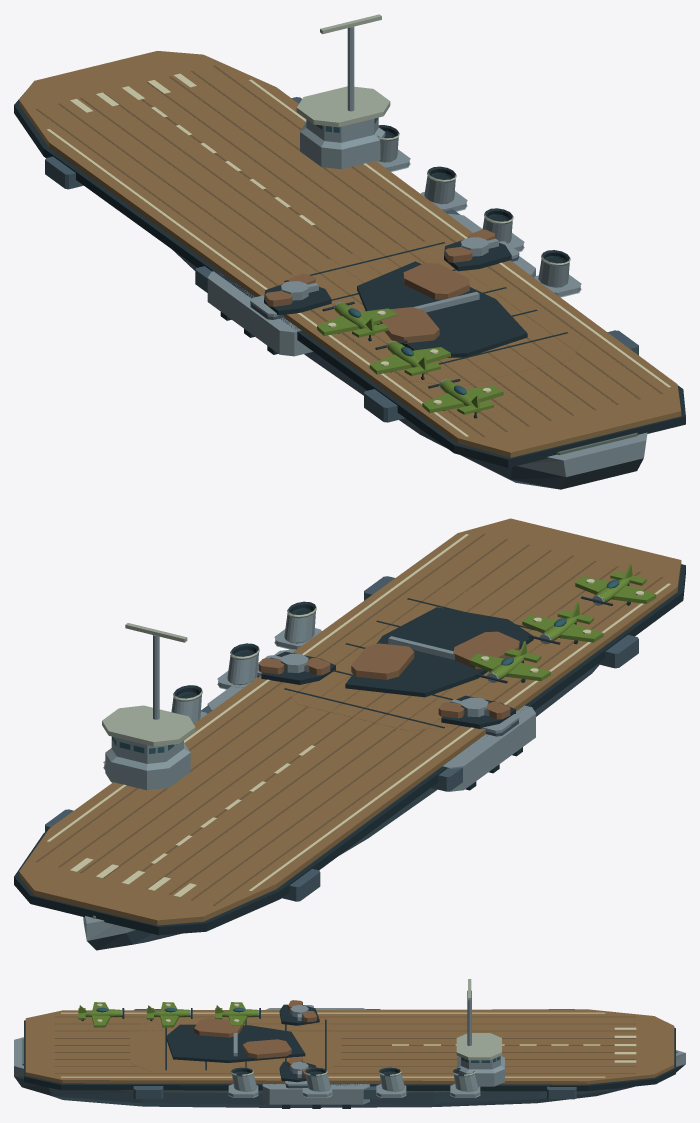
File: historic-wolverine.glb
The picture shows the model from 3 angles, top to bottom: view 1: azimuth 30°, elevation 25°; view 2: azimuth 150°, elevation 25°; view 3: azimuth 270°, elevation 25°; orthographic projection. The views are drawn at different scales.
Parts seen in each view (by area): view 1: historic-wolverine-historic-wolverine-geometry, historic-wolverine-part_flight-deck.030-geometry, historic-wolverine-ruin_flight-deck.029-geometry, historic-wolverine-part_bridge.070-geometry, historic-wolverine-parked_aircraft_0.030-geometry, historic-wolverine-parked_aircraft_1.030-geometry, historic-wolverine-parked_aircraft_2.030-geometry, historic-wolverine-ruin_aa-starboard.069-geometry, historic-wolverine-ruin_aa-port.071-geometry, historic-wolverine-historic_funnel_3.002-geometry, historic-wolverine-historic_funnel_1.029-geometry, historic-wolverine-historic_funnel_2.002-geometry (+2 smaller); view 2: historic-wolverine-historic-wolverine-geometry, historic-wolverine-part_flight-deck.030-geometry, historic-wolverine-ruin_flight-deck.029-geometry, historic-wolverine-part_bridge.070-geometry, historic-wolverine-parked_aircraft_2.030-geometry, historic-wolverine-parked_aircraft_1.030-geometry, historic-wolverine-parked_aircraft_0.030-geometry, historic-wolverine-ruin_aa-starboard.069-geometry, historic-wolverine-historic_funnel_3.002-geometry, historic-wolverine-ruin_aa-port.071-geometry, historic-wolverine-historic_funnel_2.002-geometry, historic-wolverine-historic_funnel_1.029-geometry (+1 smaller); view 3: historic-wolverine-historic-wolverine-geometry, historic-wolverine-part_flight-deck.030-geometry, historic-wolverine-ruin_flight-deck.029-geometry, historic-wolverine-part_bridge.070-geometry, historic-wolverine-historic_funnel_1.029-geometry, historic-wolverine-historic_funnel_3.002-geometry, historic-wolverine-historic_funnel_2.002-geometry, historic-wolverine-parked_aircraft_0.030-geometry, historic-wolverine-parked_aircraft_1.030-geometry, historic-wolverine-historic_funnel_0.066-geometry, historic-wolverine-ruin_aa-port.071-geometry, historic-wolverine-parked_aircraft_2.030-geometry (+2 smaller).
Part boxes in pixels (bbox=[...]): historic-wolverine-historic-wolverine-geometry: bbox=[14, 51, 685, 489]; historic-wolverine-part_flight-deck.030-geometry: bbox=[284, 240, 584, 386]; historic-wolverine-ruin_flight-deck.029-geometry: bbox=[357, 261, 527, 357]; historic-wolverine-part_bridge.070-geometry: bbox=[296, 14, 390, 169]; historic-wolverine-parked_aircraft_0.030-geometry: bbox=[422, 379, 503, 418]; historic-wolverine-parked_aircraft_1.030-geometry: bbox=[369, 340, 450, 379]; historic-wolverine-parked_aircraft_2.030-geometry: bbox=[317, 301, 397, 341]; historic-wolverine-ruin_aa-starboard.069-geometry: bbox=[444, 229, 511, 271]; historic-wolverine-ruin_aa-port.071-geometry: bbox=[264, 273, 331, 315]; historic-wolverine-historic_funnel_3.002-geometry: bbox=[534, 250, 581, 297]; historic-wolverine-historic_funnel_1.029-geometry: bbox=[420, 166, 467, 211]; historic-wolverine-historic_funnel_2.002-geometry: bbox=[482, 208, 524, 251]; historic-wolverine-historic-wolverine-geometry: bbox=[14, 518, 685, 950]; historic-wolverine-part_flight-deck.030-geometry: bbox=[283, 584, 580, 731]; historic-wolverine-ruin_flight-deck.029-geometry: bbox=[345, 607, 533, 697]; historic-wolverine-part_bridge.070-geometry: bbox=[102, 623, 195, 790]; historic-wolverine-parked_aircraft_2.030-geometry: bbox=[469, 641, 550, 683]; historic-wolverine-parked_aircraft_1.030-geometry: bbox=[522, 602, 603, 644]; historic-wolverine-parked_aircraft_0.030-geometry: bbox=[575, 564, 656, 605]; historic-wolverine-ruin_aa-starboard.069-geometry: bbox=[258, 651, 335, 684]; historic-wolverine-historic_funnel_3.002-geometry: bbox=[274, 601, 321, 649]; historic-wolverine-ruin_aa-port.071-geometry: bbox=[438, 695, 515, 728]; historic-wolverine-historic_funnel_2.002-geometry: bbox=[217, 643, 259, 689]; historic-wolverine-historic_funnel_1.029-geometry: bbox=[171, 685, 206, 723]; historic-wolverine-historic-wolverine-geometry: bbox=[14, 1008, 685, 1108]; historic-wolverine-part_flight-deck.030-geometry: bbox=[130, 1017, 341, 1072]; historic-wolverine-ruin_flight-deck.029-geometry: bbox=[166, 1018, 305, 1062]; historic-wolverine-part_bridge.070-geometry: bbox=[456, 979, 504, 1086]; historic-wolverine-historic_funnel_1.029-geometry: bbox=[376, 1067, 406, 1097]; historic-wolverine-historic_funnel_3.002-geometry: bbox=[228, 1067, 258, 1097]; historic-wolverine-historic_funnel_2.002-geometry: bbox=[302, 1067, 332, 1097]; historic-wolverine-parked_aircraft_0.030-geometry: bbox=[78, 1002, 124, 1027]; historic-wolverine-parked_aircraft_1.030-geometry: bbox=[146, 1002, 192, 1027]; historic-wolverine-historic_funnel_0.066-geometry: bbox=[450, 1068, 480, 1097]; historic-wolverine-ruin_aa-port.071-geometry: bbox=[279, 1000, 319, 1025]; historic-wolverine-parked_aircraft_2.030-geometry: bbox=[215, 1002, 260, 1026].
Size of the model in its own units: 1.8 by 1.31 by 5.89.
